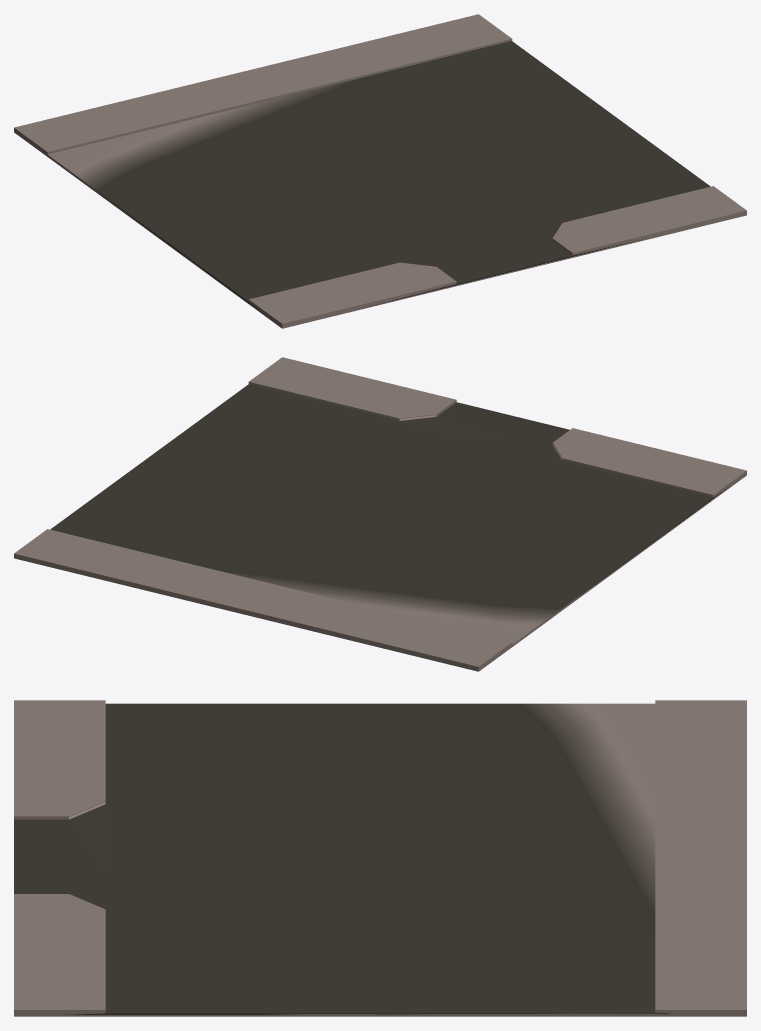
File: Env_2lane_To_Street_col.fbx
The picture shows the model from 3 angles, top to bottom: view 1: azimuth 30°, elevation 25°; view 2: azimuth 150°, elevation 25°; view 3: azimuth 270°, elevation 25°; orthographic projection. The views are drawn at different scales.
Visible parts, largest first — view 1: Env_2lane_To_Street_col; view 2: Env_2lane_To_Street_col; view 3: Env_2lane_To_Street_col.
Part boxes in pixels (bbox=[...]): Env_2lane_To_Street_col: bbox=[14, 14, 746, 328]; Env_2lane_To_Street_col: bbox=[14, 357, 746, 671]; Env_2lane_To_Street_col: bbox=[14, 700, 746, 1016].
Bounding box in the file's own units: 2000 × 20 × 2000.
